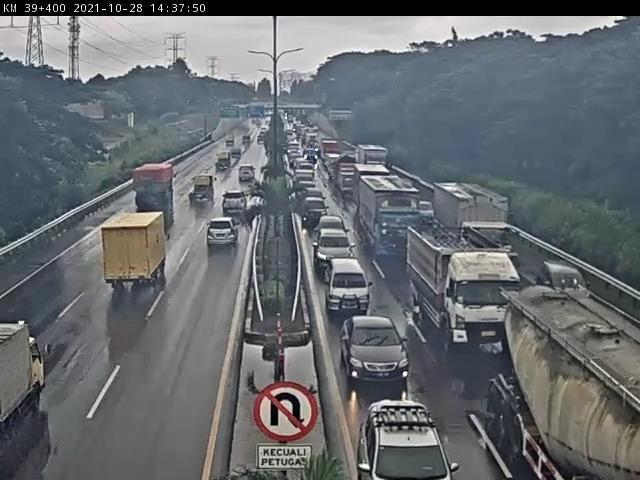bus: (318, 260, 377, 327)
car: (363, 394, 480, 480), (336, 315, 423, 403), (538, 255, 605, 315), (319, 227, 372, 265), (314, 216, 365, 246), (203, 220, 247, 251), (220, 195, 259, 223), (301, 194, 334, 222), (239, 165, 268, 186), (295, 176, 319, 196)
truck: (466, 271, 640, 479), (395, 217, 520, 354), (99, 196, 188, 311), (430, 181, 530, 274), (3, 296, 65, 443), (359, 177, 444, 263), (124, 152, 186, 228), (189, 172, 221, 210), (205, 152, 233, 179), (220, 122, 243, 148)
